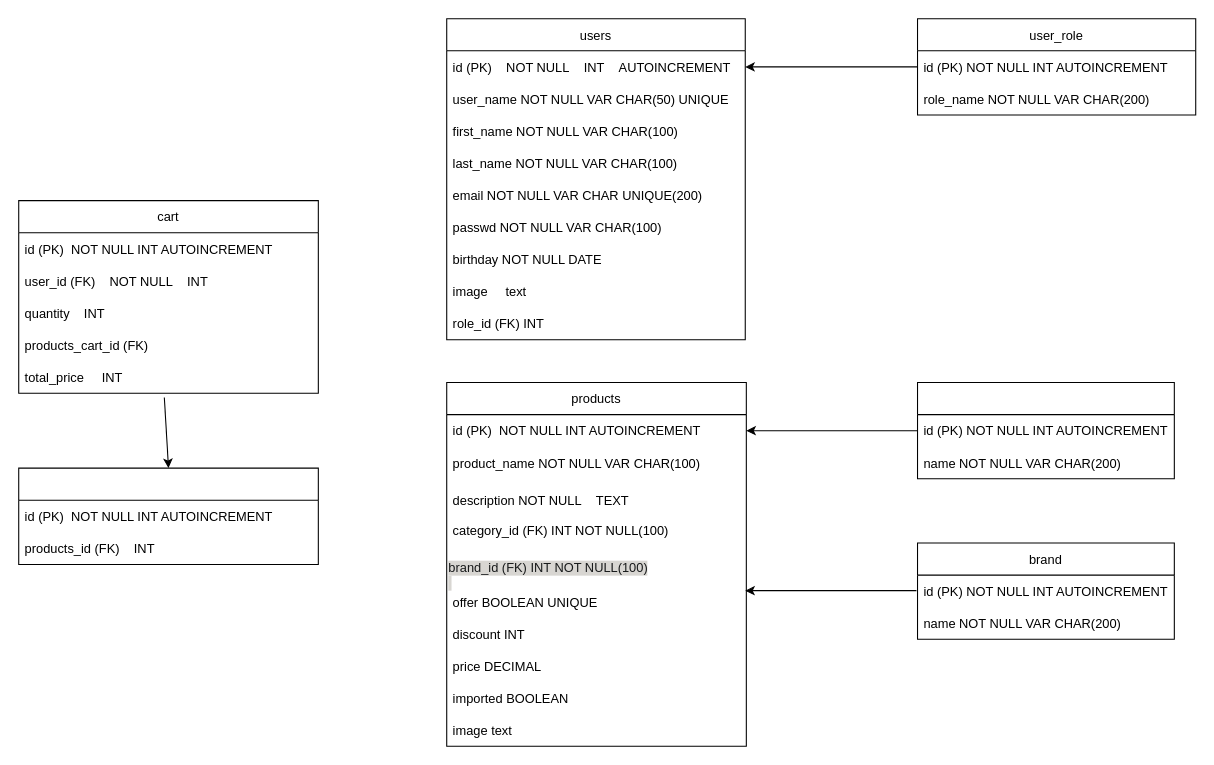
The diagram is 1214 pixels wide and 765 high, and some of its shapes have lost their labels. Each missing label, with the box of its shape:
category: (916, 381, 1174, 479)
products_cart: (18, 467, 318, 564)
